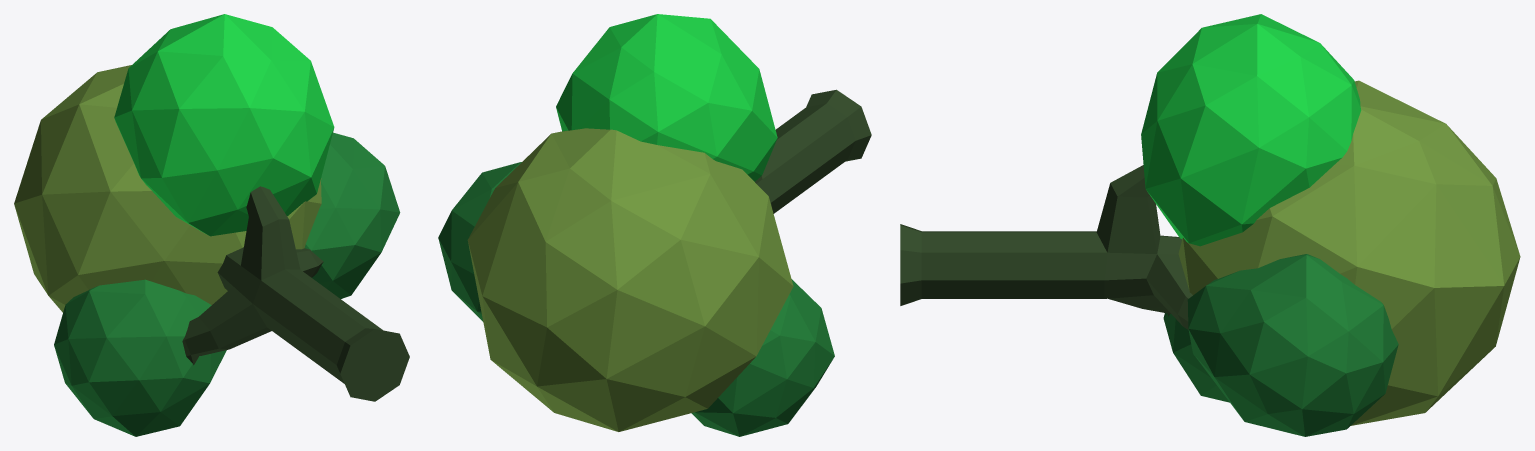
Rendered from OakTree_2.fbx.
The picture shows the model from 3 angles, left to right: view 1: azimuth 30°, elevation 25°; view 2: azimuth 150°, elevation 25°; view 3: azimuth 270°, elevation 25°; orthographic projection. The views are drawn at different scales.
Parts seen in each view (by area): view 1: OakTree_2; view 2: OakTree_2; view 3: OakTree_2.
Part boxes in pixels (box(x1,y1,x2,y2)): OakTree_2: box(14, 14, 409, 436); OakTree_2: box(438, 14, 871, 436); OakTree_2: box(900, 14, 1520, 436).
Size of the model in its own units: 424 by 463 by 620.
